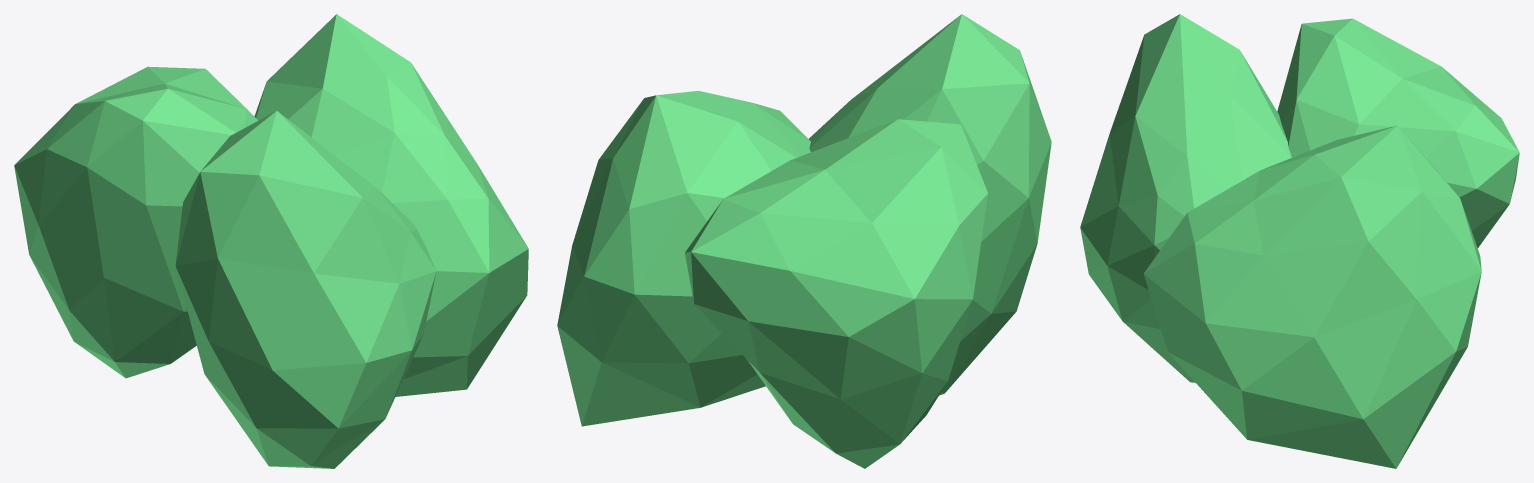
File: Gem.fbx
The picture shows the model from 3 angles, left to right: view 1: azimuth 30°, elevation 25°; view 2: azimuth 150°, elevation 25°; view 3: azimuth 270°, elevation 25°; orthographic projection. The views are drawn at different scales.
Parts seen in each view (by area): view 1: Gemit.002; view 2: Gemit.002; view 3: Gemit.002.
Part boxes in pixels (x1,y1,x2,y2): Gemit.002: [14, 14, 528, 468]; Gemit.002: [557, 14, 1051, 468]; Gemit.002: [1080, 14, 1519, 468].
Bounding box in the file's own units: 5.59 × 4.99 × 5.68.
